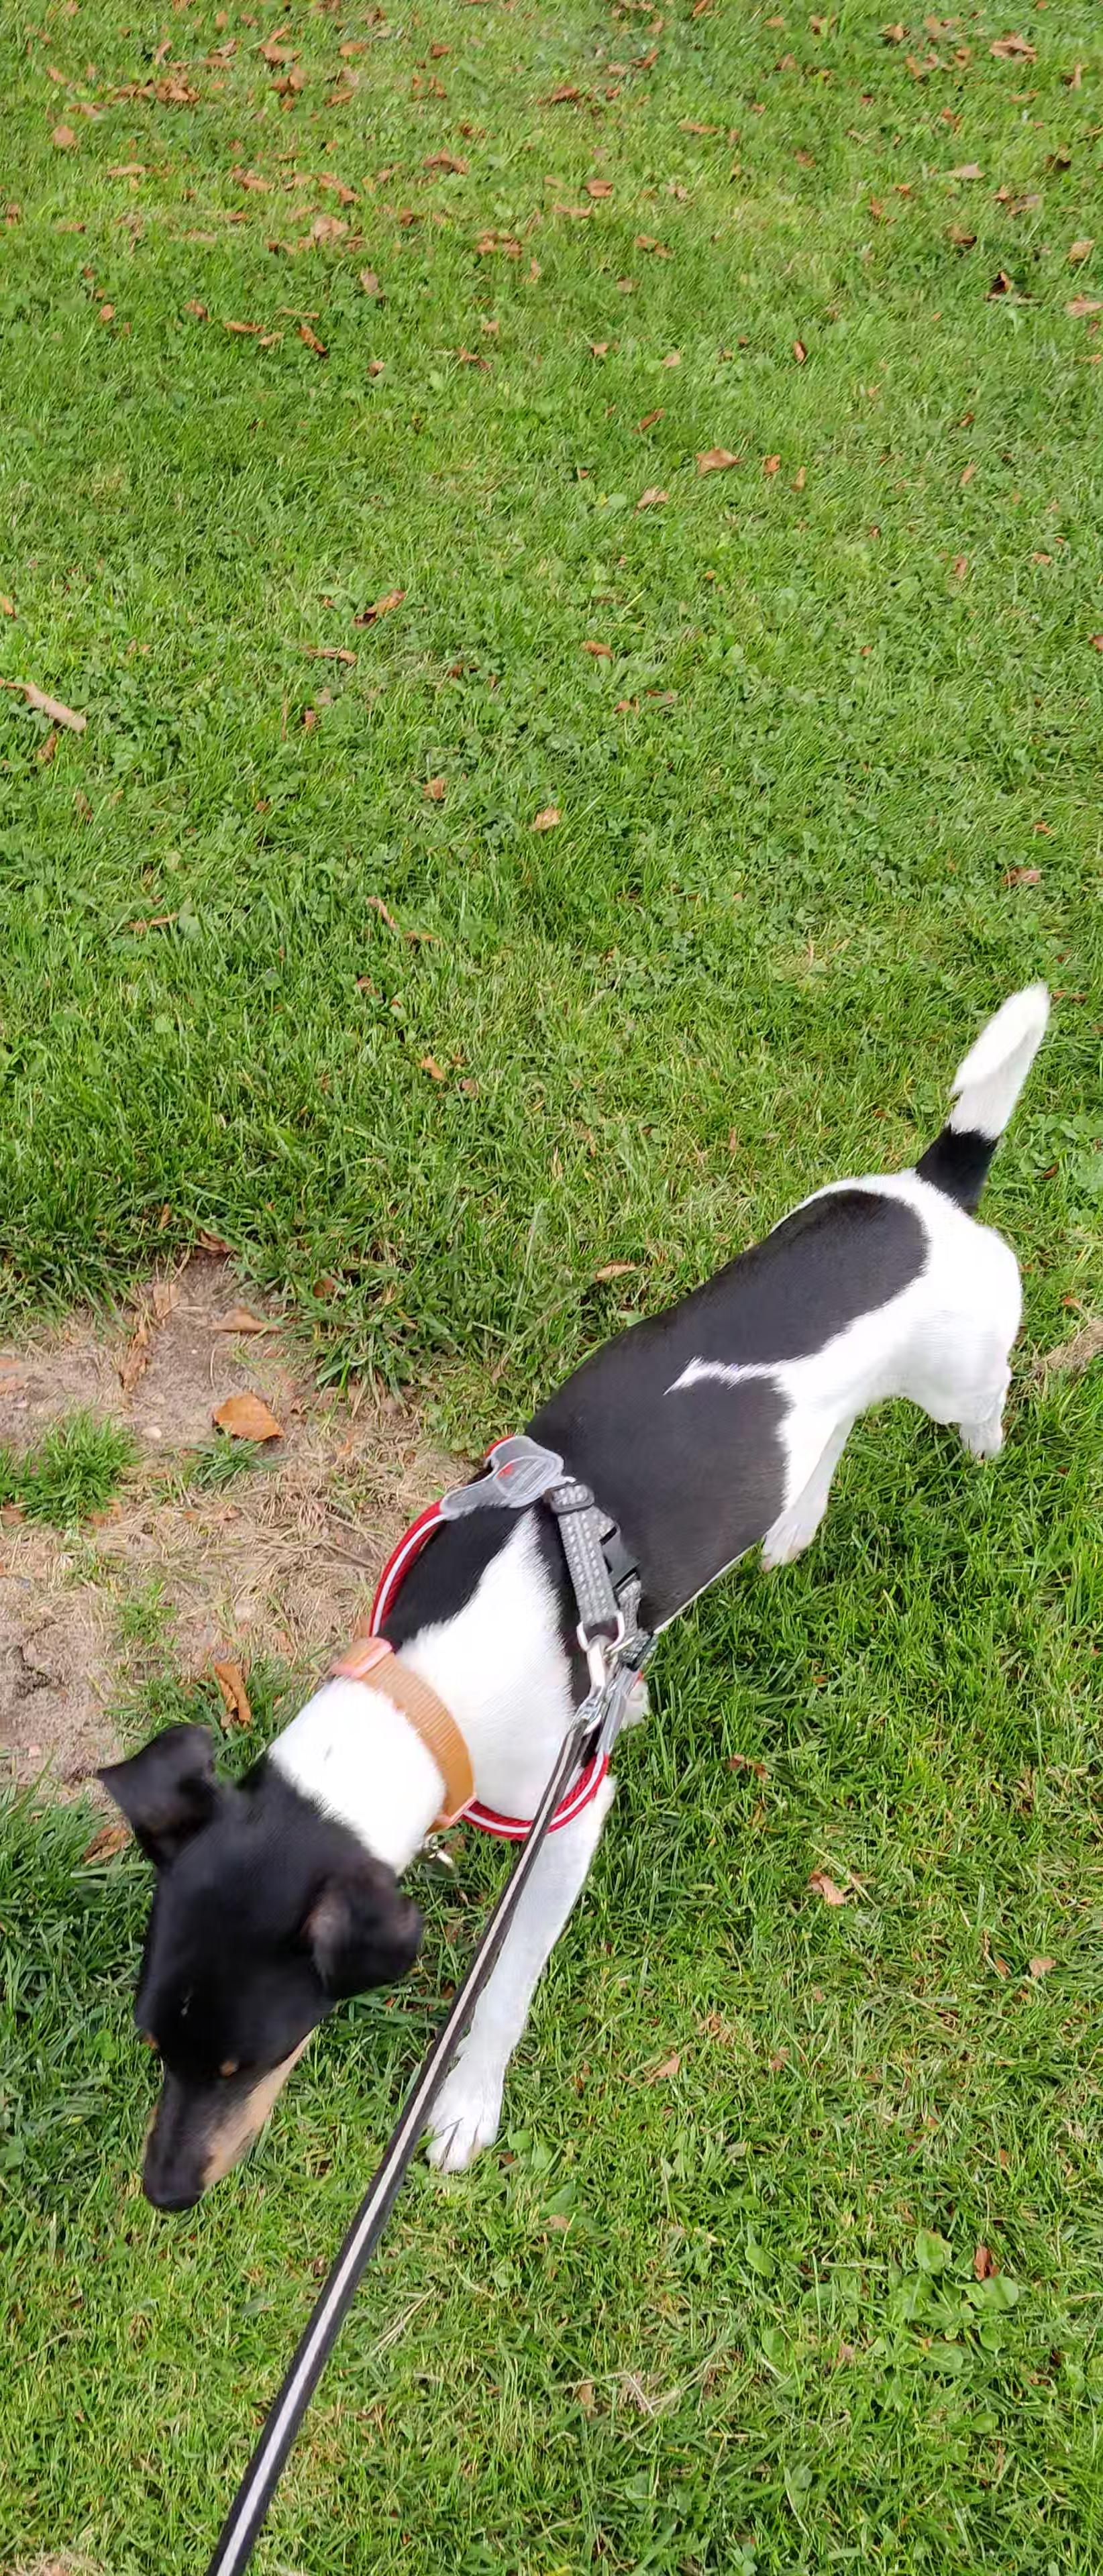Dog: (59, 915, 1077, 2252)
